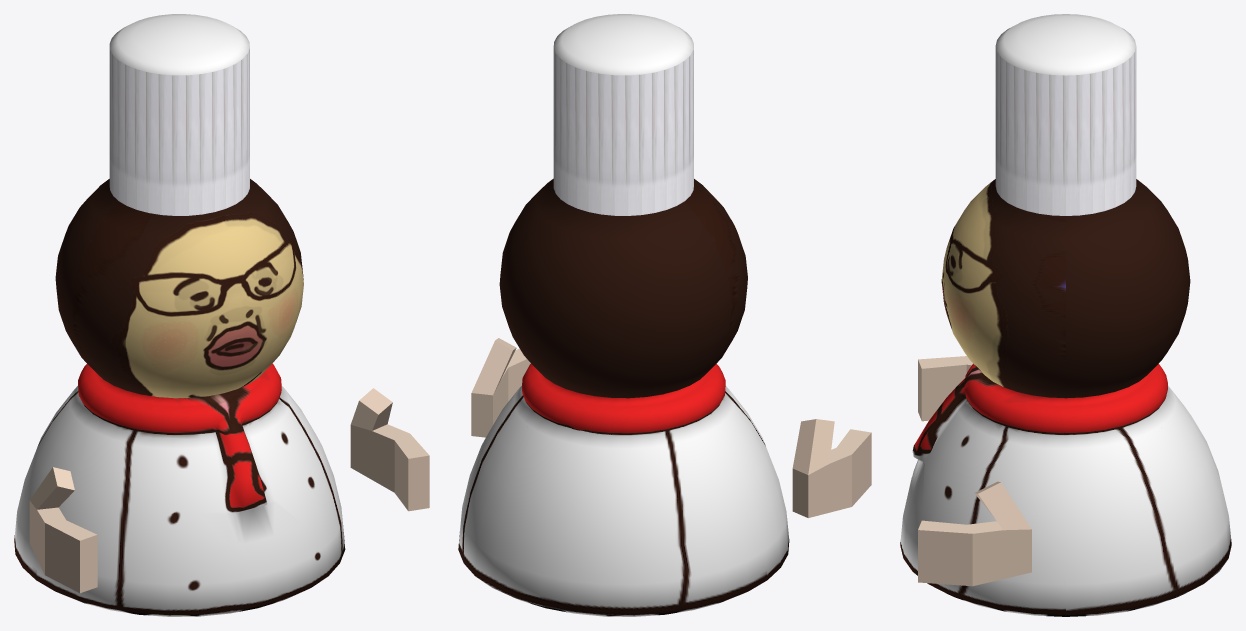
The model's file is Cookie_1P.FBX.
The picture shows the model from 3 angles, left to right: view 1: azimuth 30°, elevation 25°; view 2: azimuth 150°, elevation 25°; view 3: azimuth 270°, elevation 25°; orthographic projection.
Parts seen in each view (by area): view 1: Sphere002; view 2: Sphere002; view 3: Sphere002.
Boxes of the visible parts, x1,y1,x2,y2 form: Sphere002: [14, 14, 429, 616]; Sphere002: [458, 14, 871, 616]; Sphere002: [900, 14, 1231, 616].
Size of the model in its own units: 71.32 by 102 by 56.08.
1 material, 1 textured.
